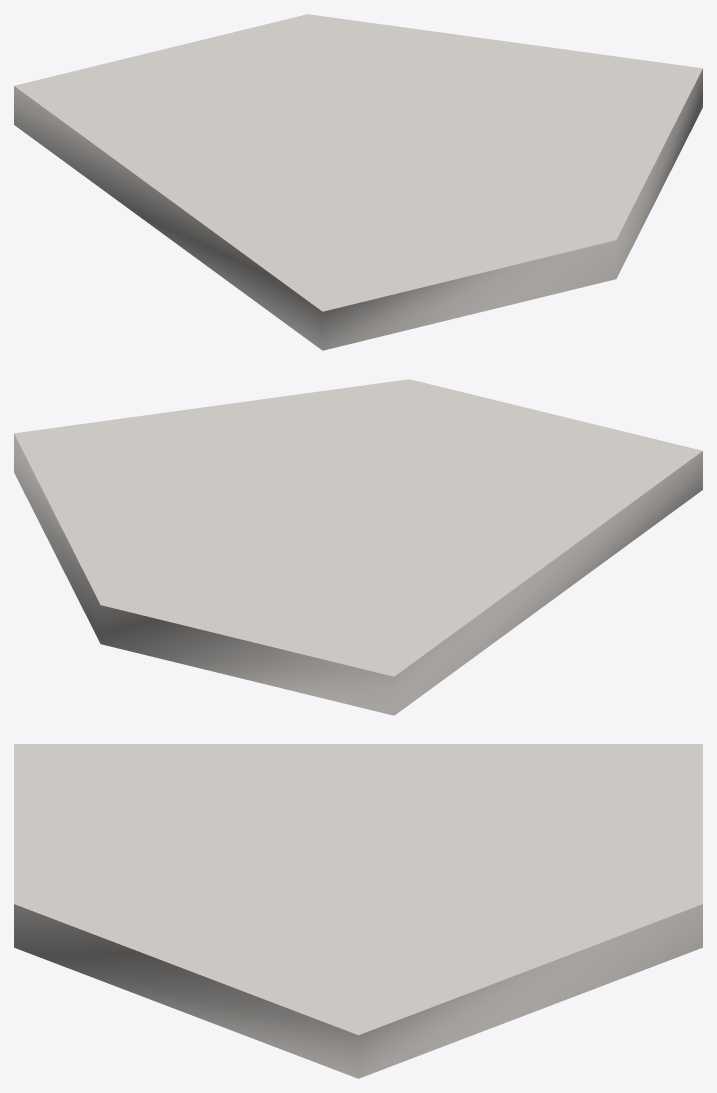
File: 043d_Home_Plate.glb
3 views of the same model, one above another, from view 1: azimuth 30°, elevation 25°; view 2: azimuth 150°, elevation 25°; view 3: azimuth 270°, elevation 25° (orthographic). The views are drawn at different scales.
Parts seen in each view (by area): view 1: part_0; view 2: part_0; view 3: part_0.
Part boxes in pixels (x1,y1,x2,y2): part_0: [14, 14, 702, 350]; part_0: [14, 379, 702, 715]; part_0: [14, 744, 702, 1078].
Size of the model in its own units: 0.43 by 0.03 by 0.43.
Materials: 1 (1 with a texture image).
